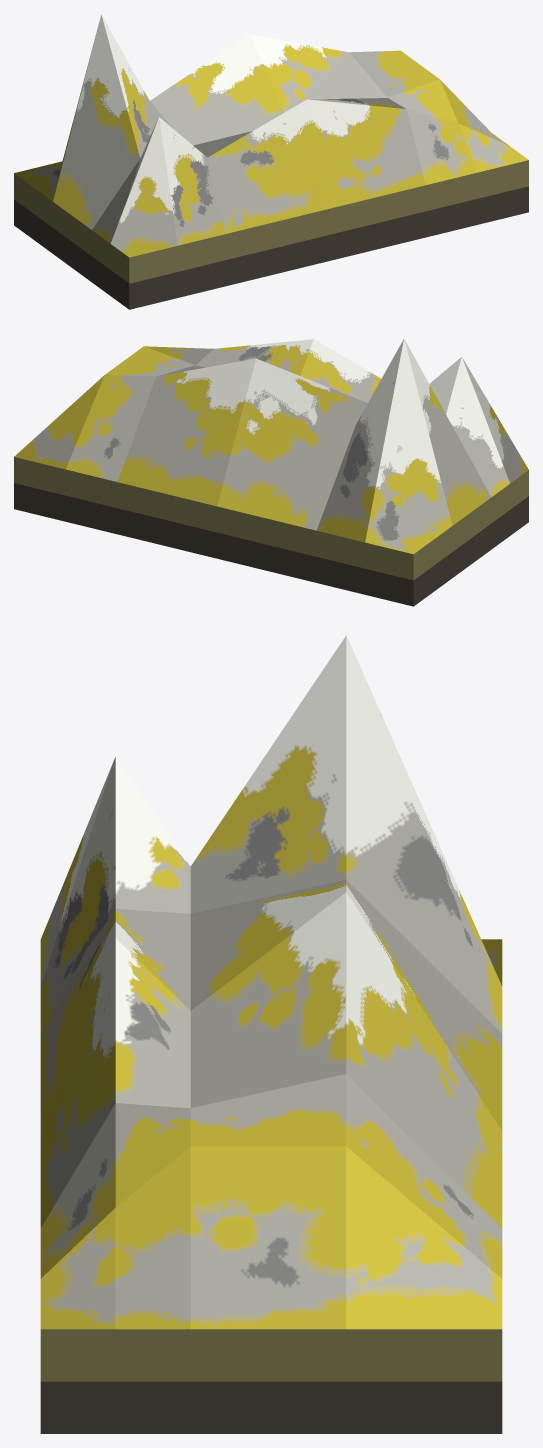
Rendered from tile2_1 mountain.fbx.
3 renders of one model, top to bottom at view 1: azimuth 30°, elevation 25°; view 2: azimuth 150°, elevation 25°; view 3: azimuth 270°, elevation 25°, orthographic. The views are drawn at different scales.
Parts seen in each view (by area): view 1: Cube; view 2: Cube; view 3: Cube.
Boxes of the visible parts, bbox=[...] form: Cube: bbox=[14, 14, 528, 309]; Cube: bbox=[14, 338, 528, 606]; Cube: bbox=[40, 635, 502, 1433].
Size of the model in its own units: 400 by 218 by 200.
1 material, 1 textured.
